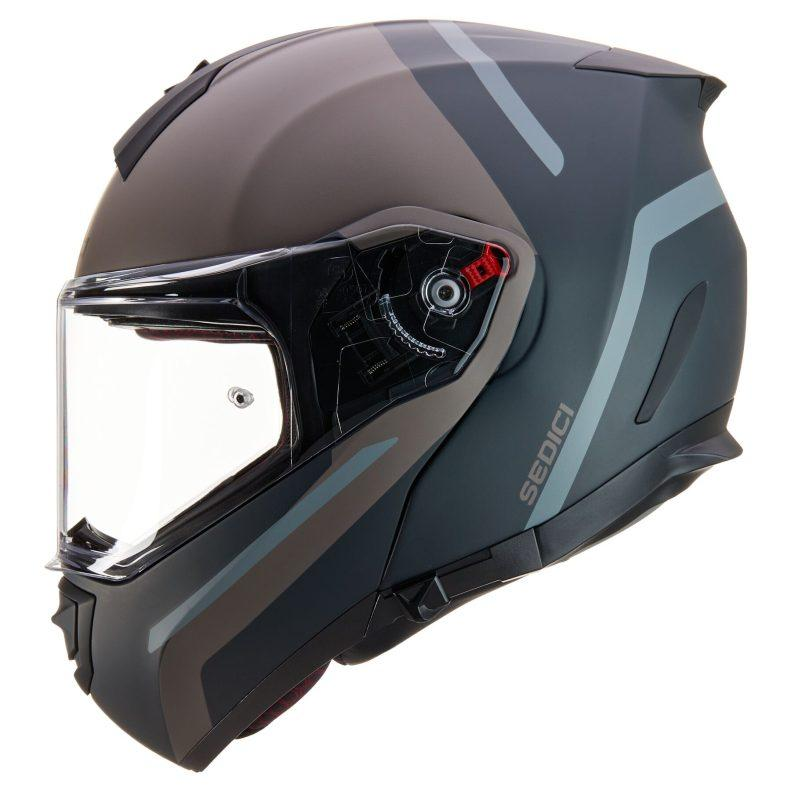Helmet: (51, 16, 749, 774)
